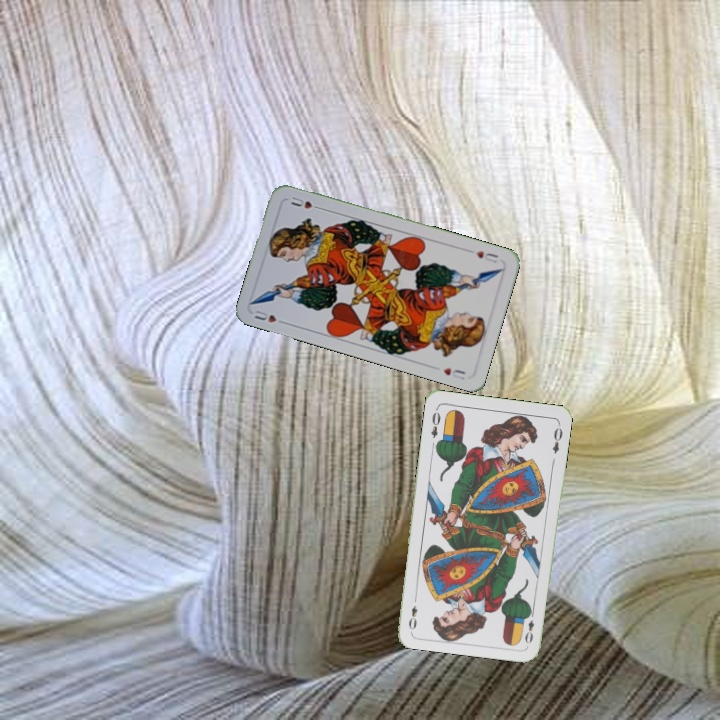EO: (521, 607, 537, 646), (427, 404, 443, 441)
HU: (250, 306, 289, 327), (472, 247, 501, 266)
